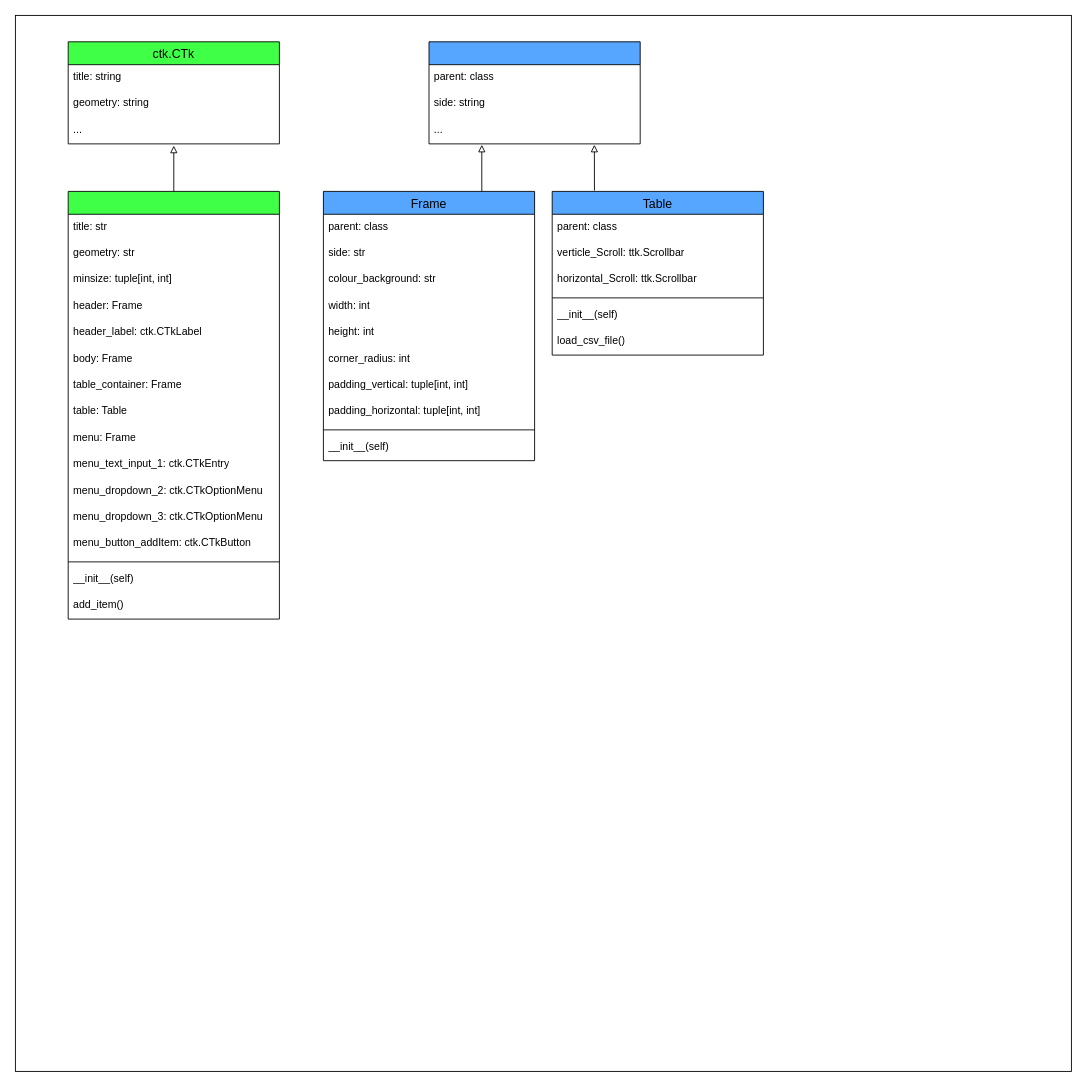
The diagram is 1087 pixels wide and 1087 high, and some of its shapes have lost their labels. The box of each missing label's shape, as (x1, y1, x2, y2) in pixels:
App_Window: (67, 191, 279, 619)
ctk.CTkFrame: (428, 41, 640, 144)
